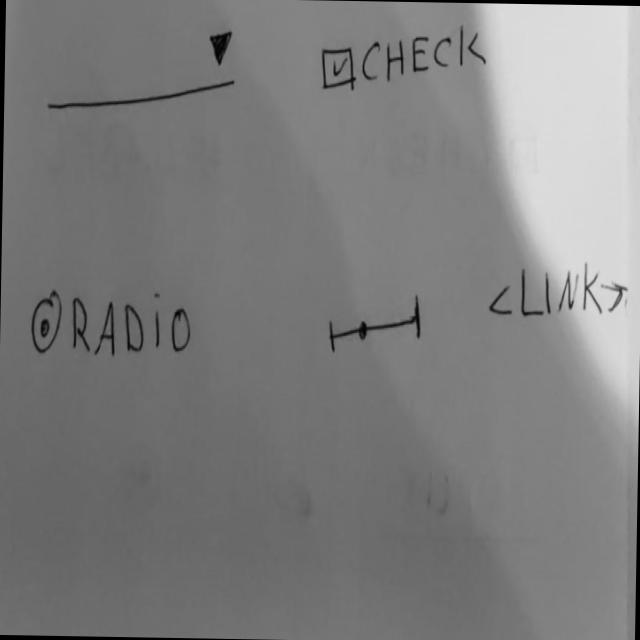checkbox: (319, 19, 491, 99)
link: (487, 259, 629, 323)
radio: (29, 285, 196, 362)
select: (45, 18, 240, 120)
slider: (328, 290, 427, 360)
